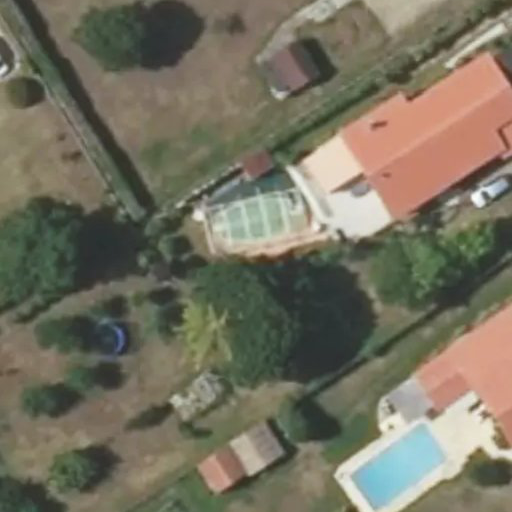pool: (212, 232, 301, 250)
